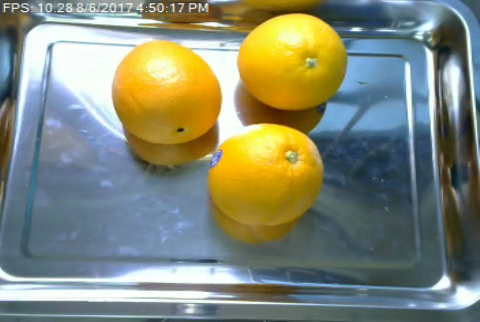Orange: (207, 122, 324, 225), (110, 38, 220, 144), (236, 13, 349, 111)
